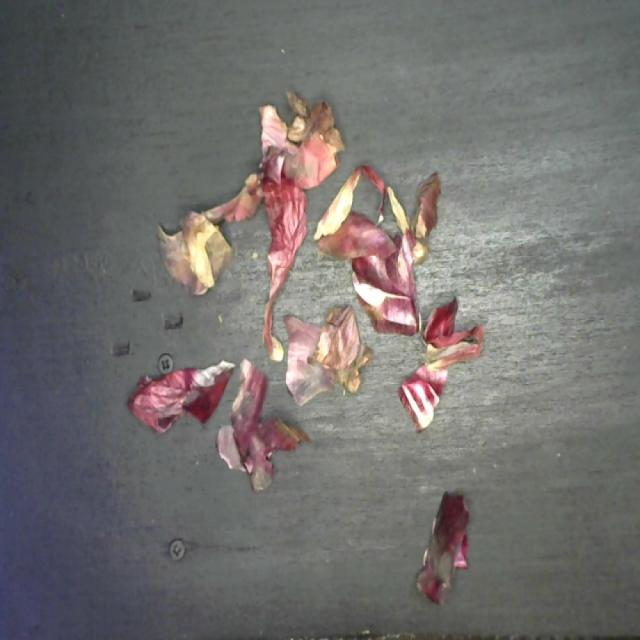biodegradable: (120, 74, 488, 610)
